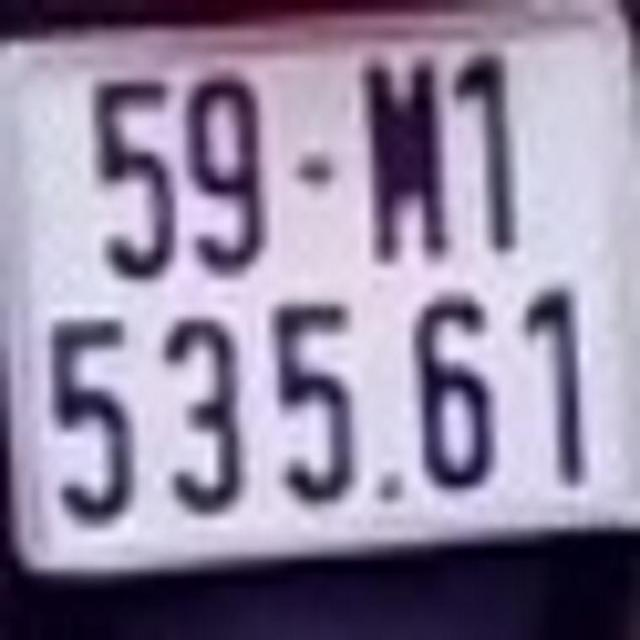1: (516, 278, 596, 492), (456, 44, 523, 255)
3: (153, 304, 250, 517)
5: (38, 313, 141, 528), (85, 66, 181, 273), (268, 298, 359, 505)
6: (402, 284, 503, 490)
9: (184, 69, 272, 278)
M: (353, 43, 455, 263)
